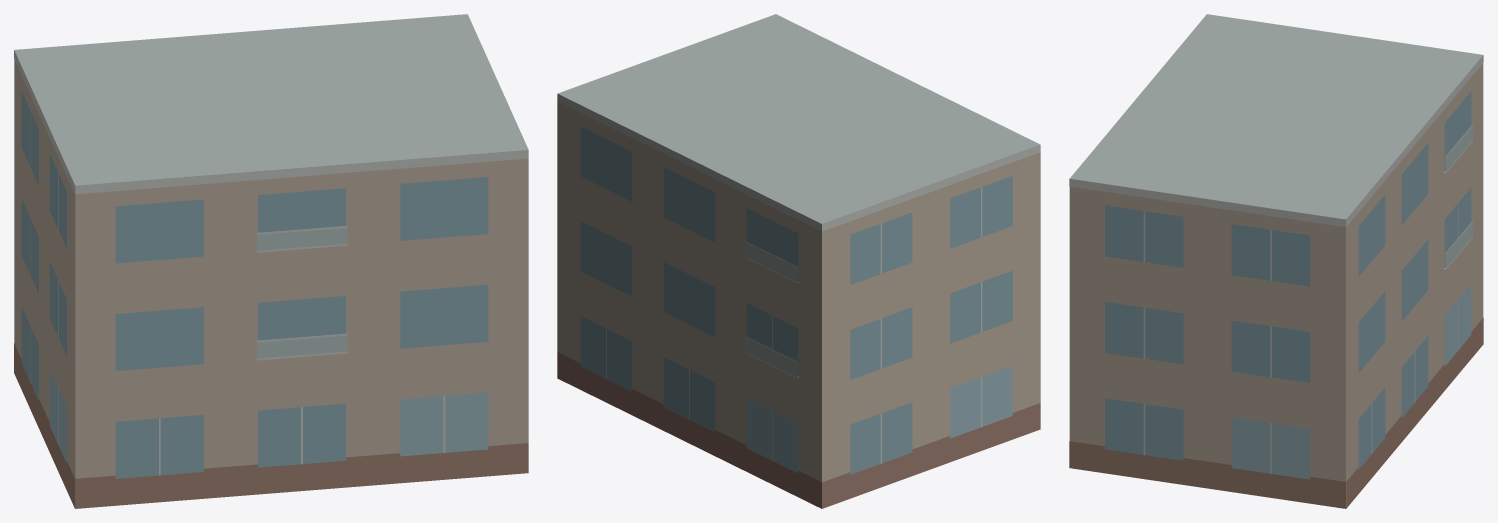
File: survey-upis-32718977.glb
3 views of the same model, side by side, from view 1: azimuth 30°, elevation 25°; view 2: azimuth 150°, elevation 25°; view 3: azimuth 270°, elevation 25° (orthographic). The views are drawn at different scales.
Visible parts, largest first — view 1: survey-upis-32718977.tmp; view 2: survey-upis-32718977.tmp; view 3: survey-upis-32718977.tmp.
Boxes of the visible parts, x1,y1,x2,y2 form: survey-upis-32718977.tmp: (14,14,528,508); survey-upis-32718977.tmp: (557,14,1040,508); survey-upis-32718977.tmp: (1069,14,1483,508).
Bounding box in the file's own units: 13.95 × 9.15 × 11.87.
